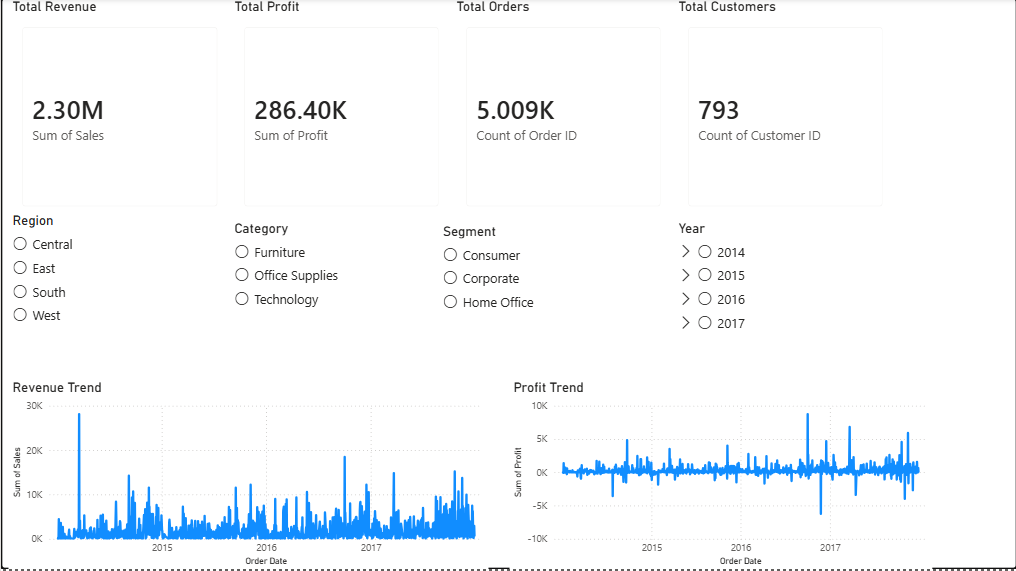

The page's visual inventory and layout, read from the dashboard file:
{"tool":"powerbi","page":{"name":"Executive Summary","canvas":[1280,720],"ordinal":0},"visuals":[{"type":"cardVisual","title":"Total Revenue","fields":{"Data":["Sum(Sample - Superstore.Sales)"]},"box":[10,0,280,280],"z":0},{"type":"cardVisual","title":"Total Profit","fields":{"Data":["Sum(Sample - Superstore.Profit)"]},"box":[289.1,0,279.7,279.7],"z":1000},{"type":"cardVisual","title":"Total Orders","fields":{"Data":["Count(Sample - Superstore.Order ID)"]},"box":[568.8,0,279.7,279.7],"z":2000},{"type":"cardVisual","title":"Total Customers","fields":{"Data":["Count(Sample - Superstore.Customer ID)"]},"box":[848.5,0,279.7,279.7],"z":3000},{"type":"lineChart","title":"Revenue Trend","fields":{"Y":["Sum(Sample - Superstore.Sales)"],"Category":["Sample - Superstore.Order Date"]},"box":[9.4,480,604.7,240],"z":4000},{"type":"lineChart","title":"Profit Trend","fields":{"Y":["Sum(Sample - Superstore.Profit)"],"Category":["Sample - Superstore.Order Date"]},"box":[655.8,480,532.9,240],"z":5000},{"type":"listSlicer","fields":{"Values":["Sample - Superstore.Region"]},"box":[9.4,270.2,230.6,149.3],"z":6000},{"type":"listSlicer","fields":{"Values":["Sample - Superstore.Category"]},"box":[289,280,280,150],"z":7000},{"type":"listSlicer","fields":{"Values":["Sample - Superstore.Segment"]},"box":[551.8,283.5,279.7,151.2],"z":8000},{"type":"listSlicer","fields":{"Values":["Sample - Superstore.Order Date.Variation.Date Hierarchy.Year","Sample - Superstore.Order Date.Variation.Date Hierarchy.Quarter","Sample - Superstore.Order Date.Variation.Date Hierarchy.Month","Sample - Superstore.Order Date.Variation.Date Hierarchy.Day"]},"box":[849,280,280,150],"z":9000}]}

Visuals, with their boxes in screenshot pixels (x1, y1, x2, y2), scaled from the page's 1280x720 canvas onto the 1016x571 screenshot:
"Total Revenue" cardVisual: l=8, t=0, r=230, b=222
"Total Profit" cardVisual: l=229, t=0, r=451, b=222
"Total Orders" cardVisual: l=451, t=0, r=673, b=222
"Total Customers" cardVisual: l=673, t=0, r=896, b=222
"Revenue Trend" lineChart: l=7, t=381, r=487, b=570
"Profit Trend" lineChart: l=521, t=381, r=944, b=570
listSlicer - Sample - Superstore.Region: l=7, t=214, r=190, b=333
listSlicer - Sample - Superstore.Category: l=229, t=222, r=452, b=341
listSlicer - Sample - Superstore.Segment: l=438, t=225, r=660, b=345
listSlicer - Sample - Superstore.Order Date.Variation.Date Hierarchy.Year x Sample - Superstore.Order Date.Variation.Date Hierarchy.Quarter: l=674, t=222, r=896, b=341
